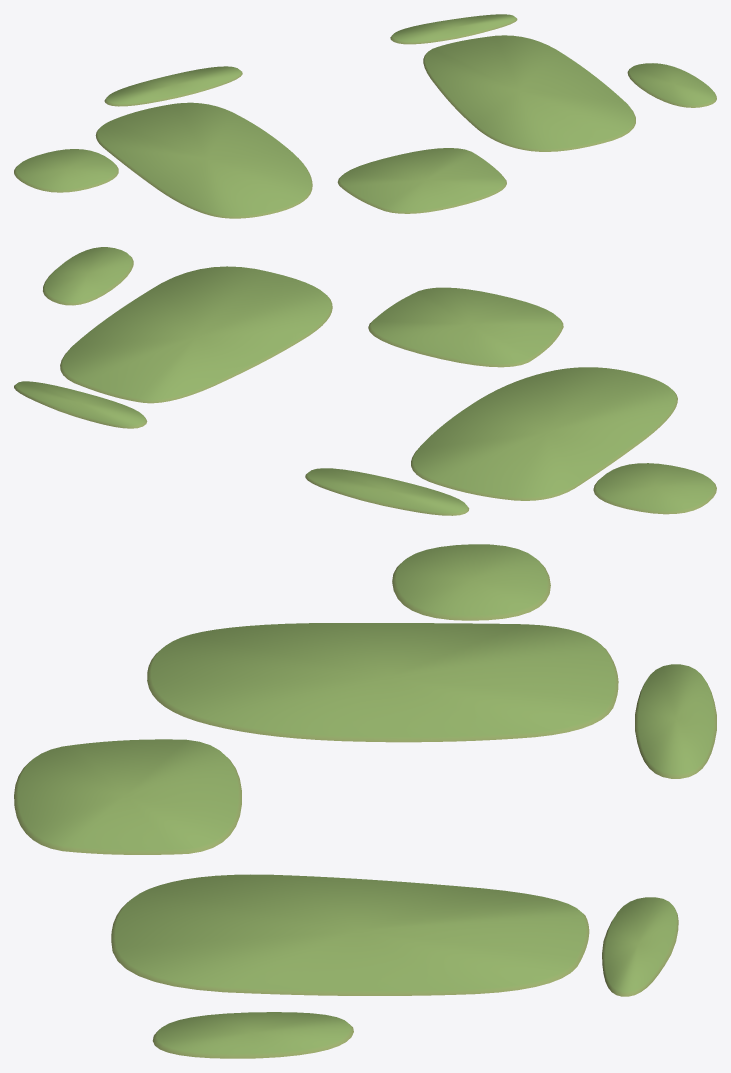
File: lawns.glb
3 views of the same model, one above another, from view 1: azimuth 30°, elevation 25°; view 2: azimuth 150°, elevation 25°; view 3: azimuth 270°, elevation 25° (orthographic). The views are drawn at different scales.
Visible parts, largest first — view 1: lawns; view 2: lawns; view 3: lawns.
Part boxes in pixels (left/top/right/bottom): lawns: left=14, top=14, right=716, bottom=218; lawns: left=14, top=247, right=716, bottom=515; lawns: left=14, top=544, right=716, bottom=1058.
Bounding box in the file's own units: 14.69 × 0.05 × 8.51.
